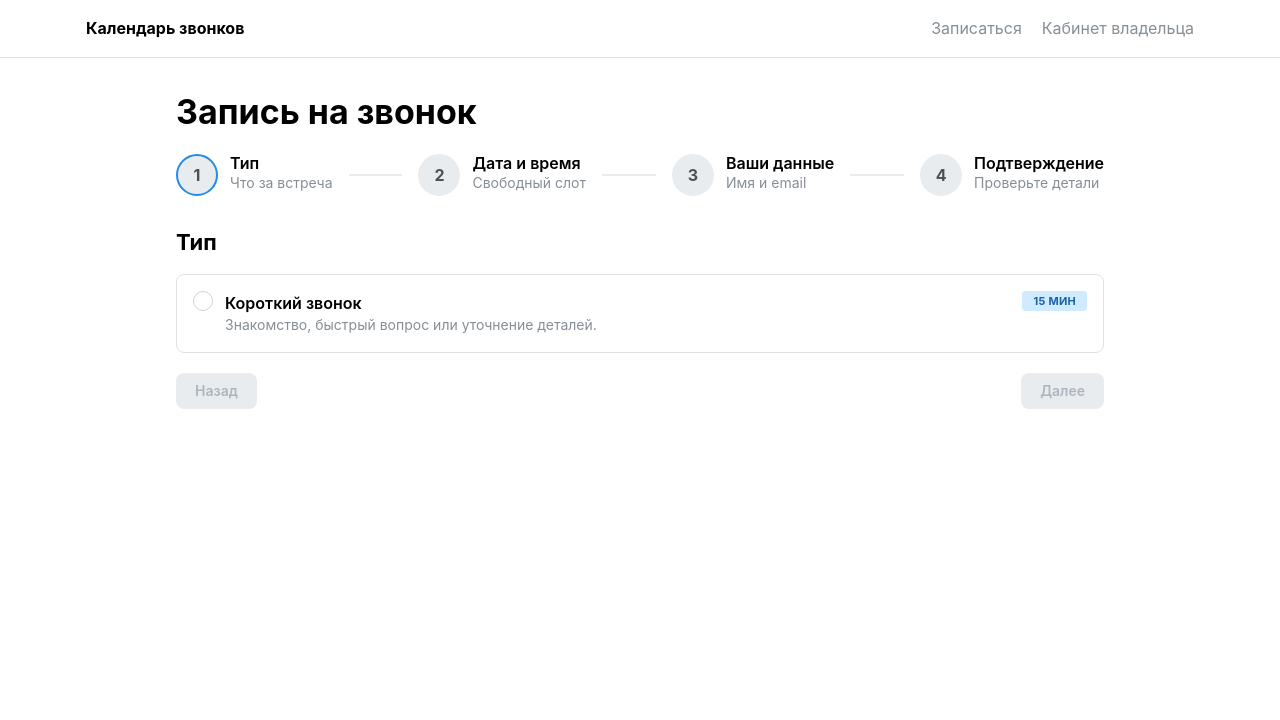
Scenario: шаг «Ваши данные» › немедленно подсказывает об ошибке в email и не пускает дальше
Click the radio button labelled "Короткий звонок".
click(293, 303)  # box left=176, top=274, right=1104, bottom=353
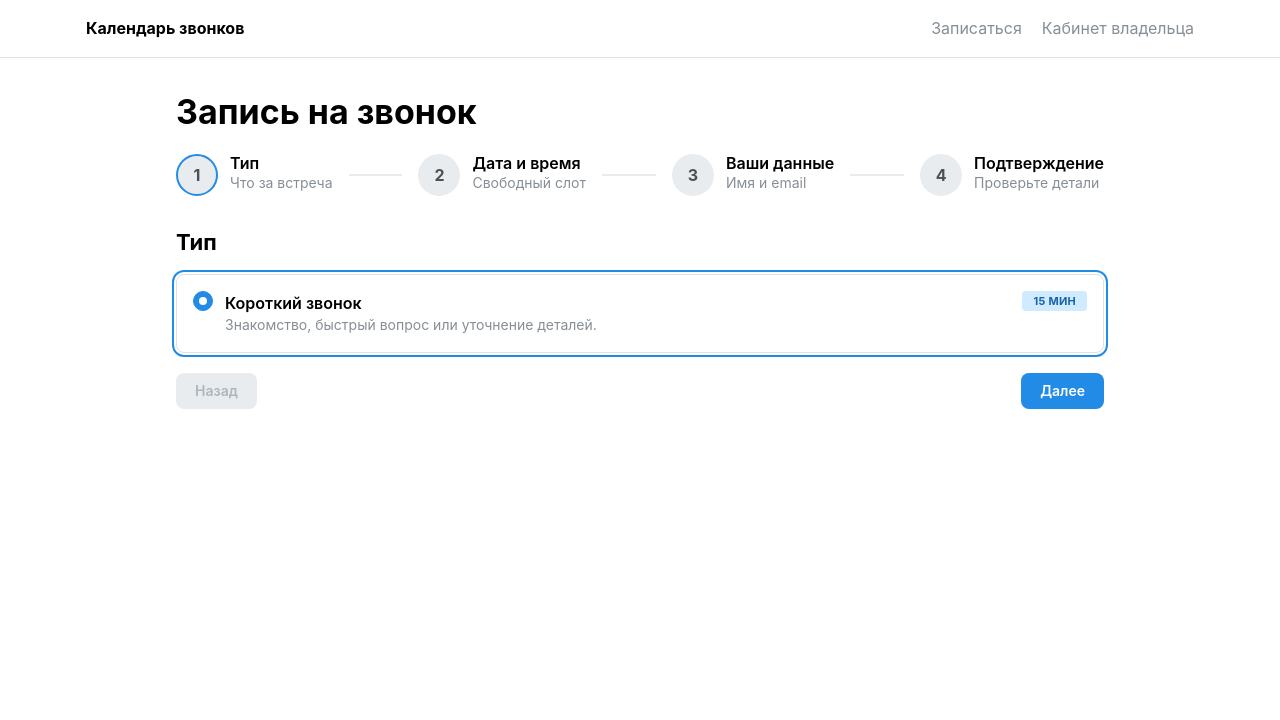
Click the button "Далее".
click(1063, 391)  # box left=1021, top=373, right=1104, bottom=409
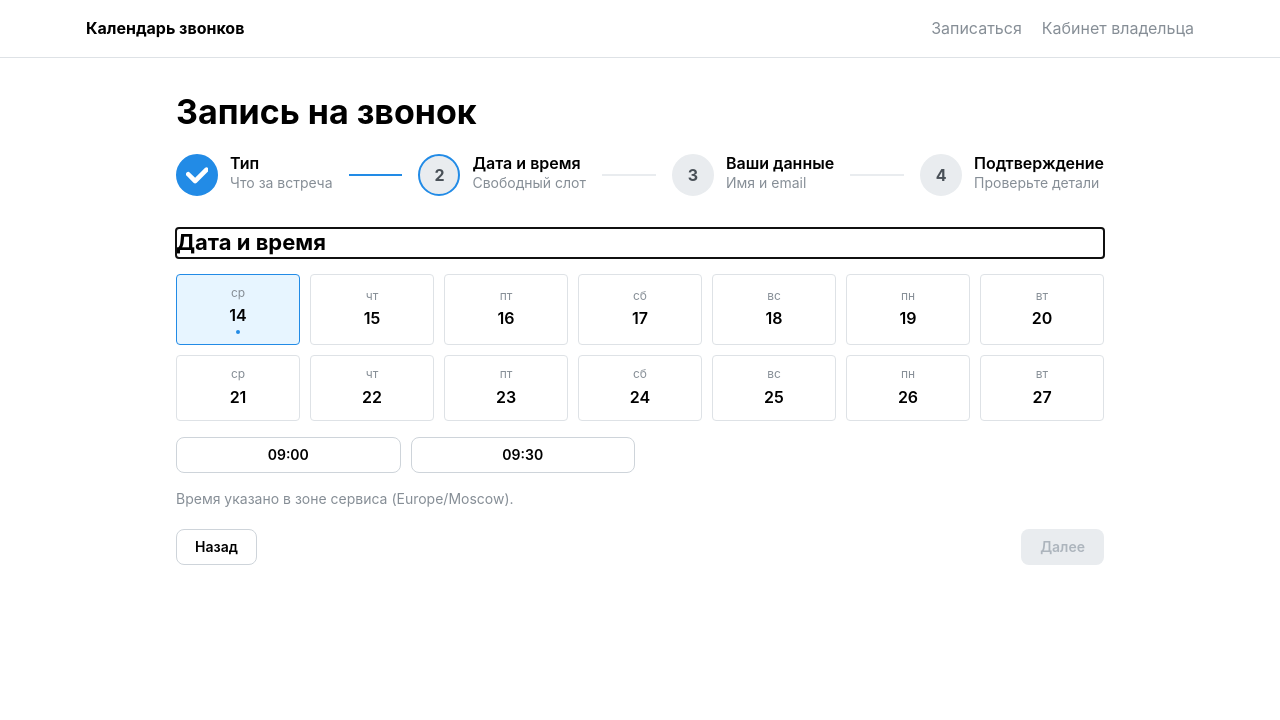
Click the button "09:00".
click(288, 455)  # box left=176, top=437, right=400, bottom=473
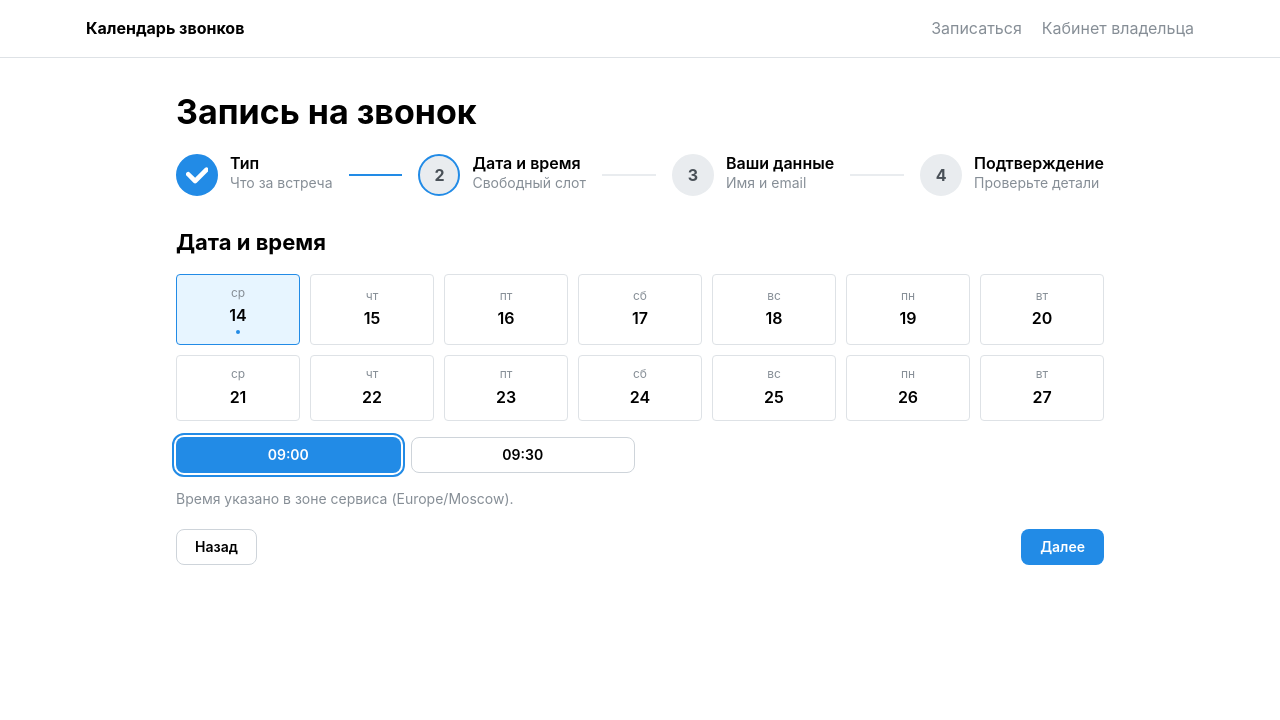
Click the button "Далее".
click(1063, 547)  # box left=1021, top=529, right=1104, bottom=565
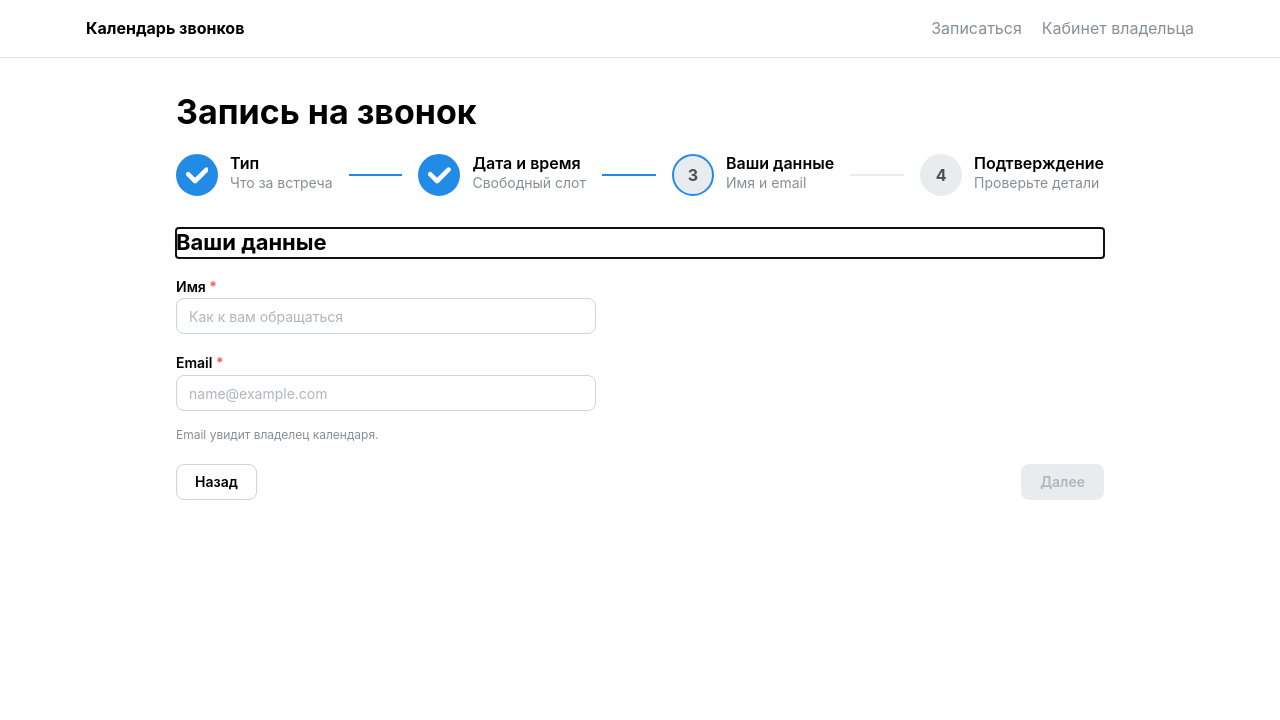
Type "не-имейл" into the field labelled "Email *".
click(386, 393); type("не-имейл")  # box left=176, top=375, right=596, bottom=411
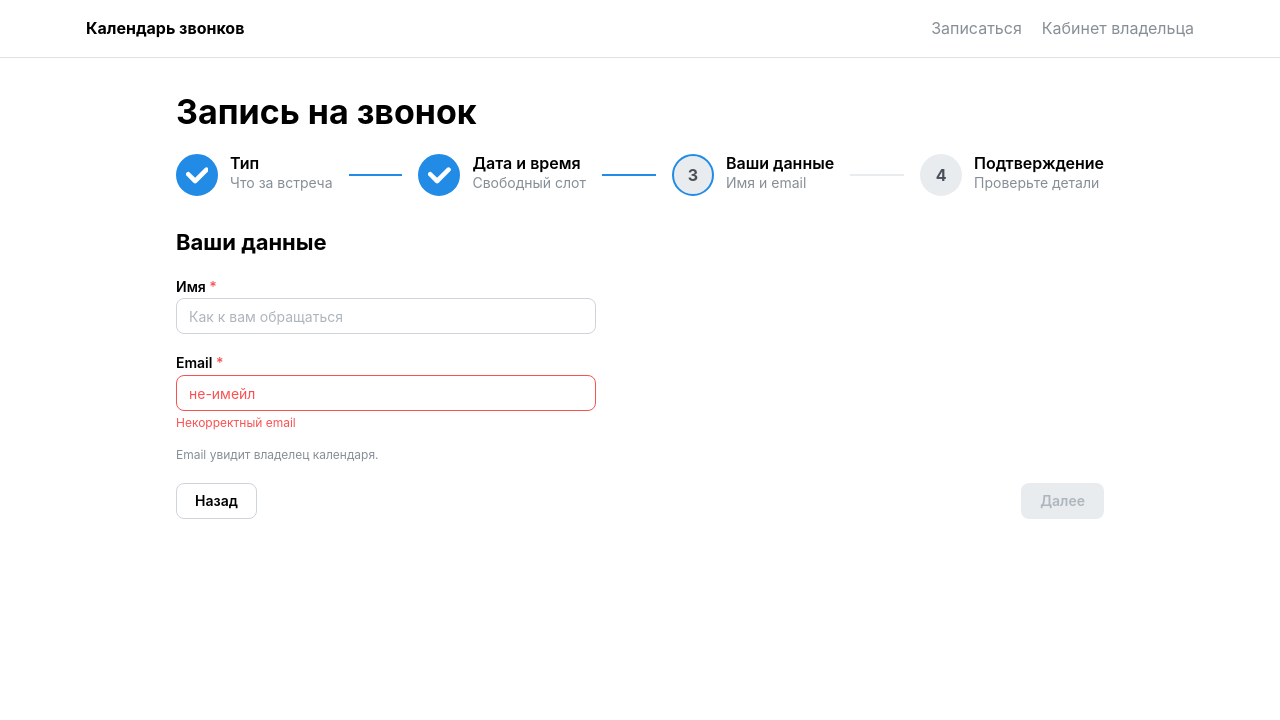
Expected: the button "Далее" is disabled, left=1021, top=484, right=1104, bottom=520
Expected: the text "Некорректный email" is shown, left=176, top=415, right=296, bottom=430
